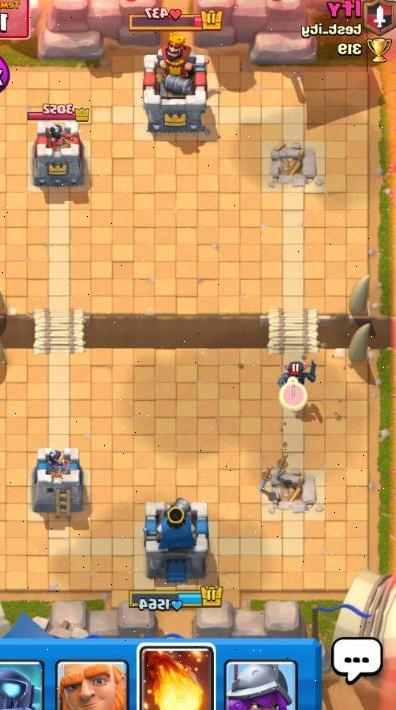enemy_mini_pekka: (273, 355, 321, 399)
